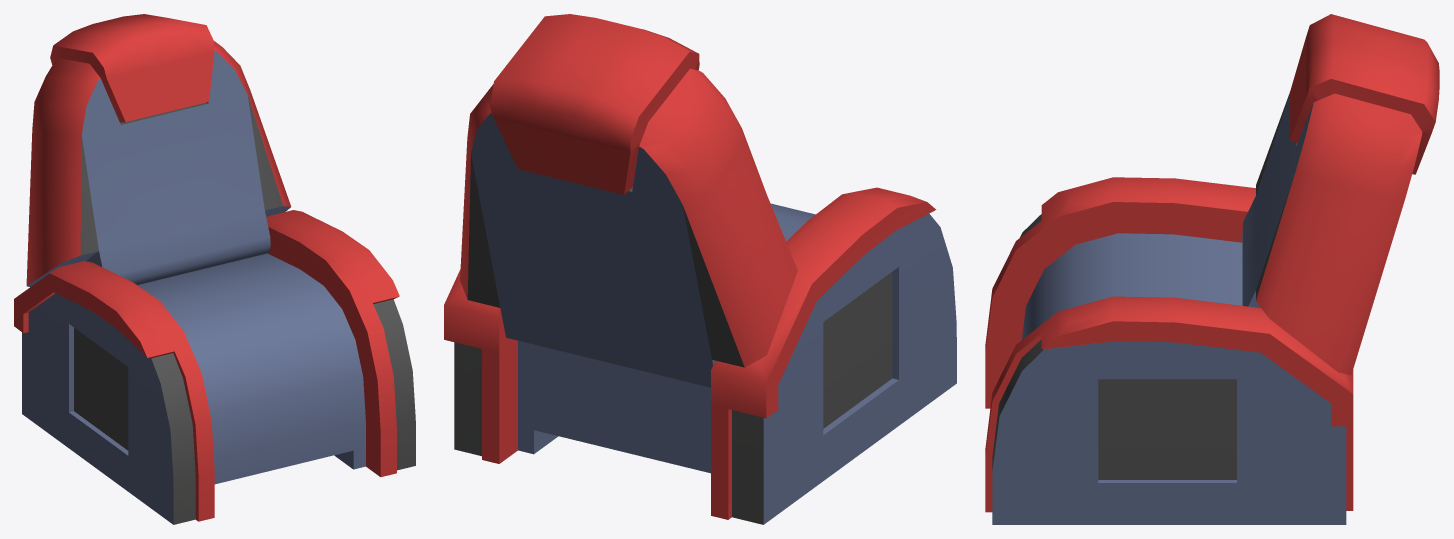
The model's file is Airplane_VipSeat.FBX.
The picture shows the model from 3 angles, left to right: view 1: azimuth 30°, elevation 25°; view 2: azimuth 150°, elevation 25°; view 3: azimuth 270°, elevation 25°; orthographic projection. The views are drawn at different scales.
Parts seen in each view (by area): view 1: Airplane_VipSeat; view 2: Airplane_VipSeat; view 3: Airplane_VipSeat.
Part boxes in pixels (x1,y1,x2,y2): Airplane_VipSeat: (14,14,415,524); Airplane_VipSeat: (444,14,956,524); Airplane_VipSeat: (985,14,1439,524).
Size of the model in its own units: 42.31 by 57.74 by 56.4.
Materials: 1 (1 with a texture image).
